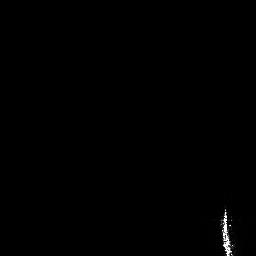ship: (219, 205, 239, 256)
